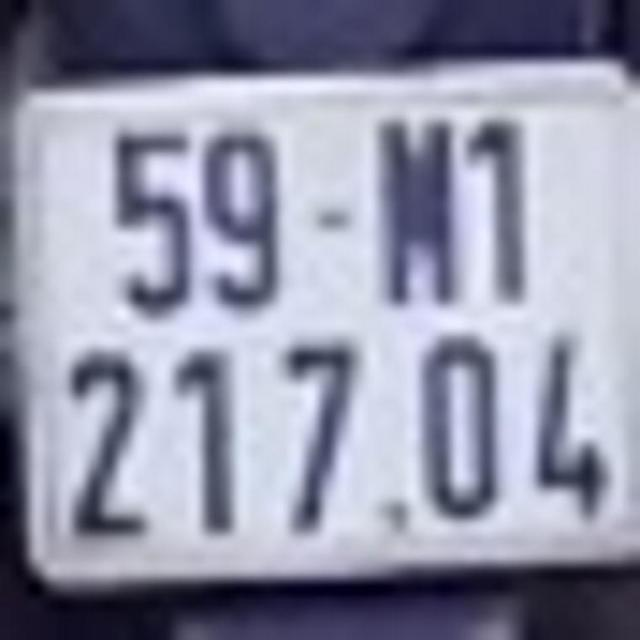0: (407, 328, 512, 520)
1: (468, 109, 538, 312), (173, 344, 245, 531)
2: (63, 346, 155, 538)
4: (526, 333, 620, 524)
5: (106, 120, 200, 312)
7: (275, 338, 365, 545)
9: (203, 122, 285, 309)
H: (372, 113, 468, 314)
